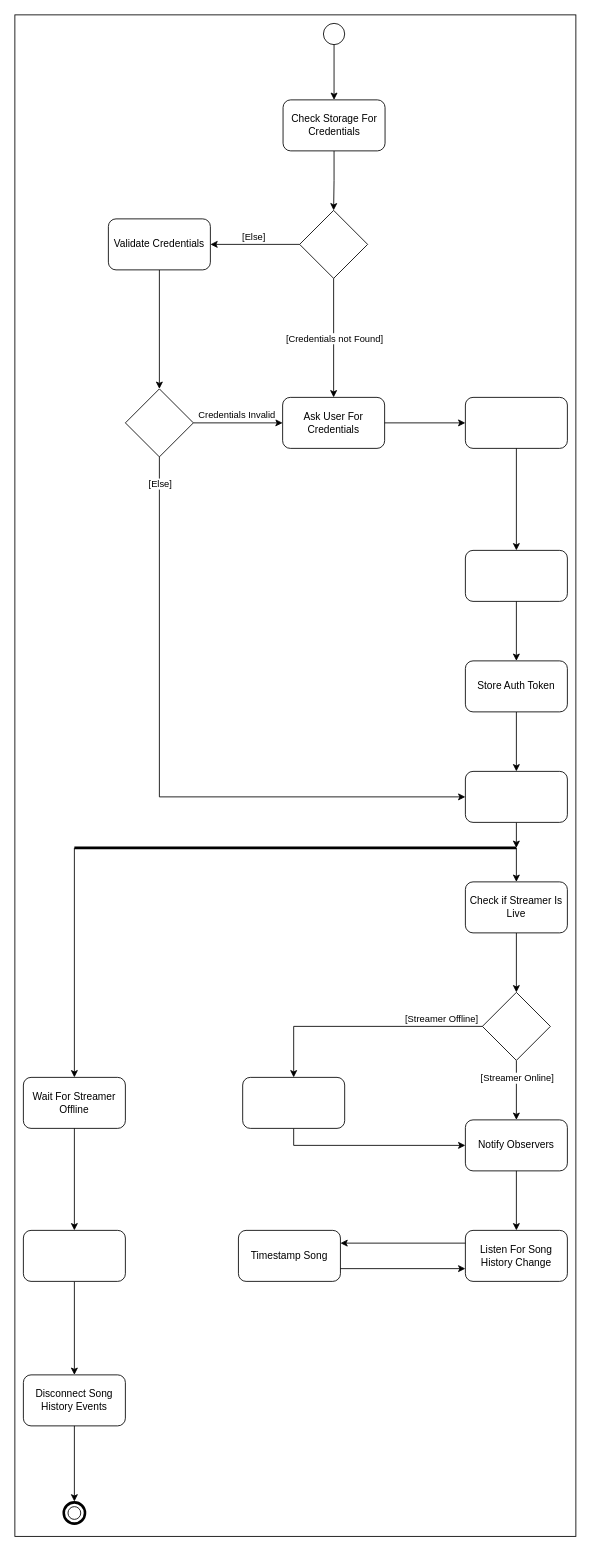
Some shapes in this 591 by 1551 pixel diagram are drawn without their labels. Here are the shapes that lost their labels. From the top down, the centre of each, then its label:
At point (516, 422): "Authorize App".
At point (516, 575): "Get Auth Token".
At point (516, 796): "Subscribe To Twitch Events".
At point (293, 1102): "Wait For Streamer Online".
At point (74, 1255): "Write Songlist To File".
